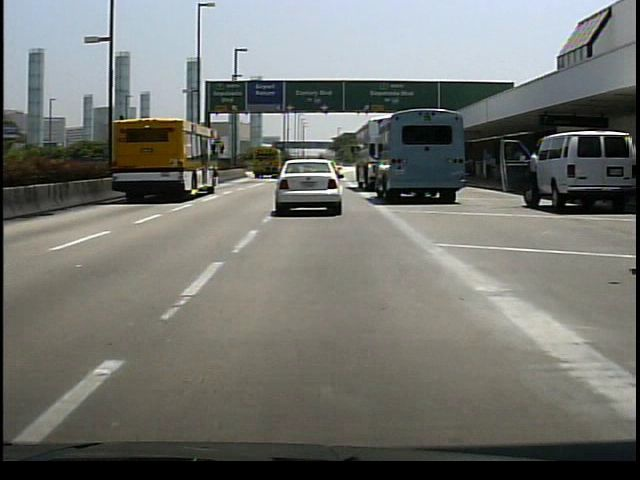person: (525, 138, 543, 216)
